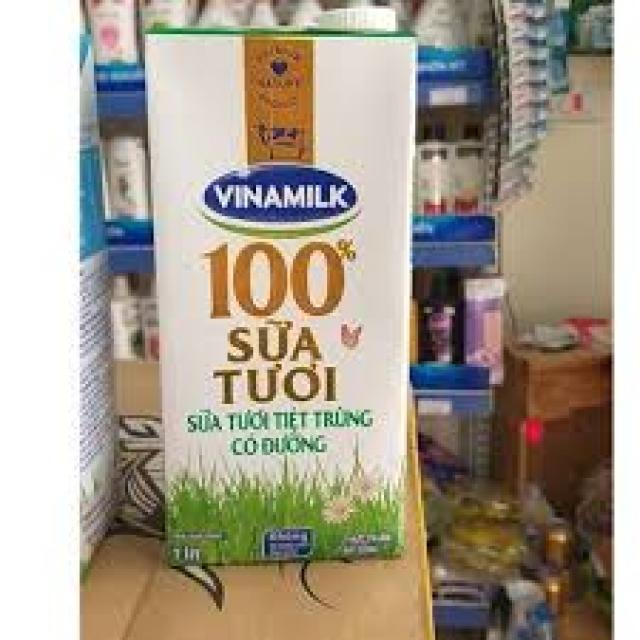non_white_jug: (131, 7, 429, 570)
